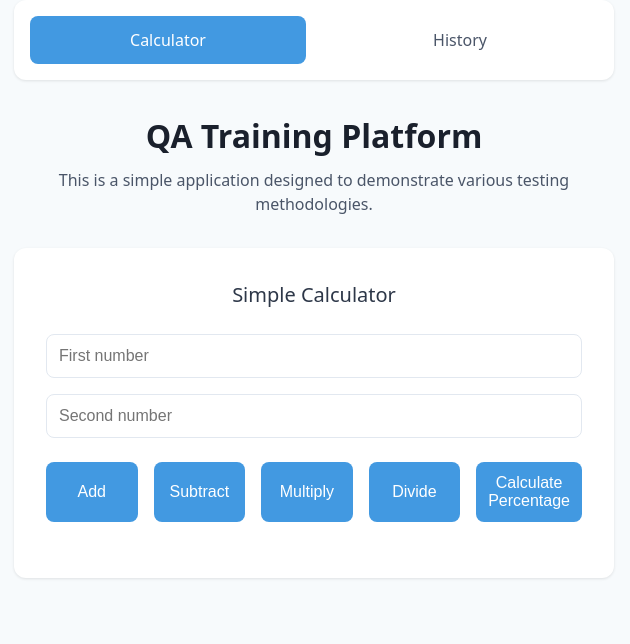
Test case: Calculator Integration Tests › should perform calculation and save to history
Type "5" into the number field with test id "num1-input" at (314, 356), box [46,334,582,378]
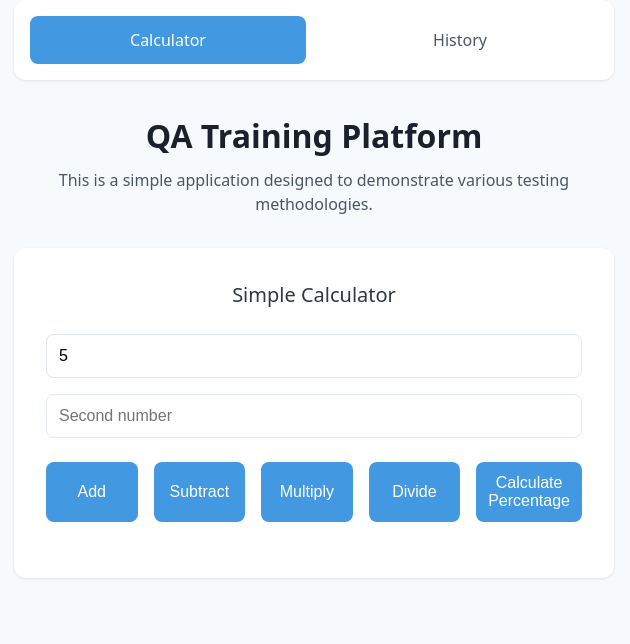
Type "3" into the number field with test id "num2-input" at (314, 416), box [46,394,582,438]
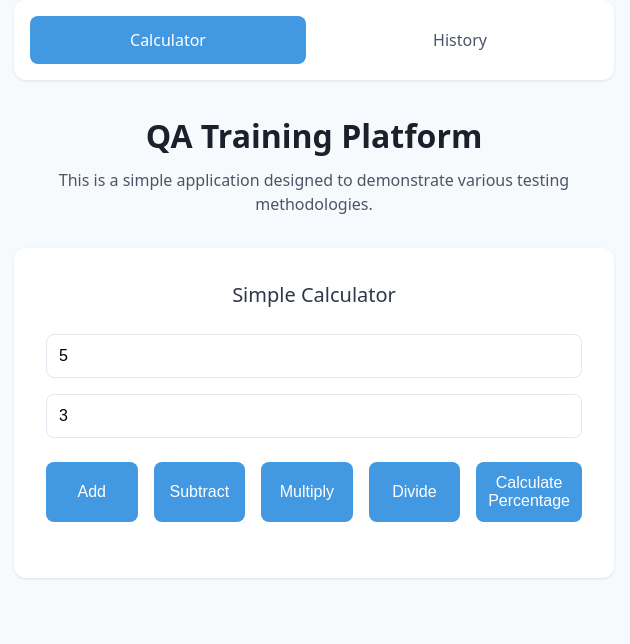
Click the button with test id "add-button" at (92, 492), box [46,462,138,522]
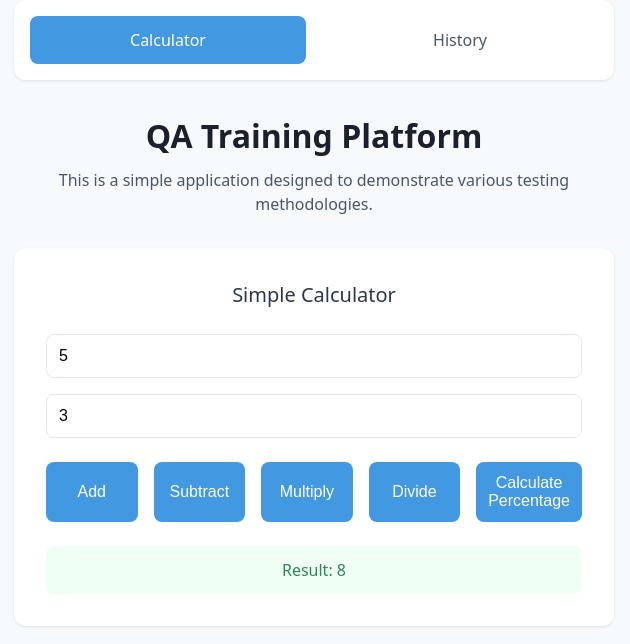
expect the text with test id "result" reads "Result: 8": met, box [46,546,582,594]
